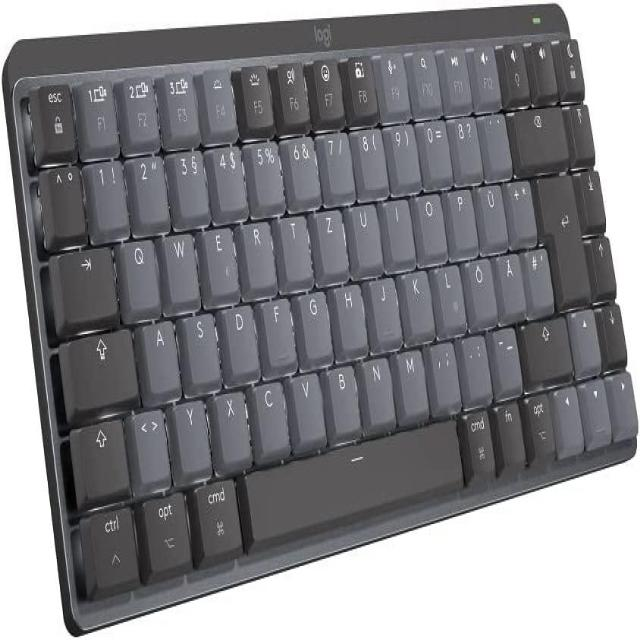0: (416, 115, 451, 183)
1: (88, 155, 128, 236)
2: (131, 149, 169, 228)
3: (169, 144, 208, 218)
4: (210, 140, 246, 211)
5: (247, 134, 285, 208)
6: (284, 130, 319, 201)
7: (319, 126, 353, 194)
8: (351, 122, 387, 190)
9: (384, 119, 419, 187)
a: (142, 314, 179, 393)
accent: (477, 106, 511, 176)
ae: (496, 246, 524, 313)
alt-left: (143, 488, 192, 577)
altgr-right: (524, 388, 554, 457)
b: (326, 358, 360, 436)
c: (253, 376, 288, 453)
caret: (44, 164, 86, 238)
comma: (428, 334, 459, 408)
d: (223, 298, 259, 376)
del: (508, 100, 568, 167)
e: (203, 221, 238, 296)
enter: (535, 168, 588, 303)
f: (261, 292, 296, 368)
g: (298, 285, 331, 356)
h: (333, 278, 365, 349)
hash: (522, 242, 552, 313)
i: (382, 191, 413, 260)
j: (368, 271, 400, 344)
k: (401, 264, 433, 335)
keyboard: (2, 0, 636, 632)
l: (434, 257, 464, 329)
less: (131, 404, 169, 483)
m: (394, 341, 426, 418)
minus: (489, 321, 522, 393)
n: (361, 351, 394, 425)
o: (414, 187, 445, 259)
oe: (462, 253, 496, 323)
p: (447, 182, 476, 252)
plus: (504, 173, 536, 242)
point: (459, 328, 490, 400)
q: (121, 233, 159, 312)
r: (241, 214, 276, 289)
s: (184, 307, 219, 383)
shift-left: (67, 417, 130, 505)
shift-lock: (56, 324, 141, 414)
shift-right: (522, 312, 572, 382)
space: (239, 414, 463, 540)
ss: (447, 110, 481, 179)
strg-left: (75, 502, 140, 595)
t: (278, 210, 312, 282)
tab: (47, 242, 119, 328)
u: (349, 197, 381, 270)
ue: (476, 177, 507, 249)
v: (291, 366, 325, 440)
w: (162, 226, 198, 305)
x: (214, 386, 250, 463)
y: (172, 394, 211, 474)
z: (314, 203, 346, 274)
